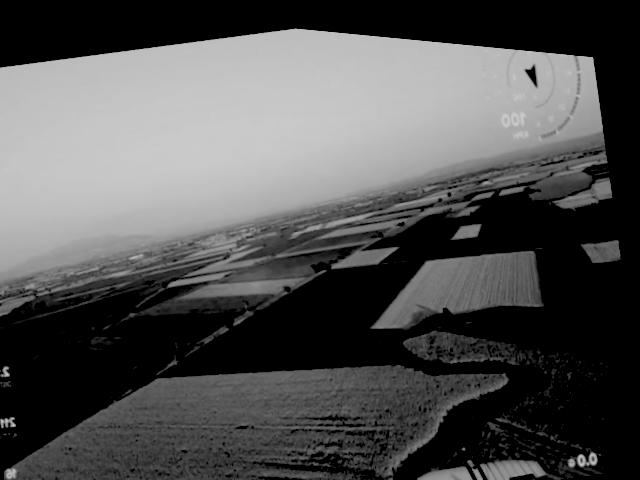hedef: (415, 408, 564, 480)
